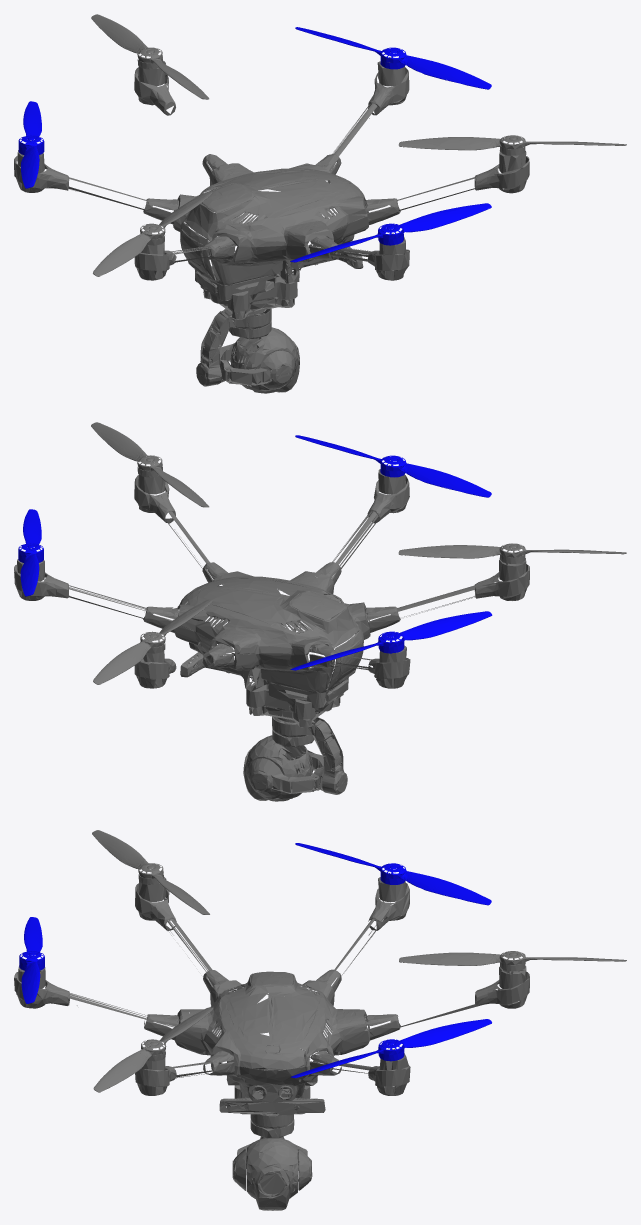
File: typhoon_h480.glb
3 renders of one model, top to bottom at view 1: azimuth 30°, elevation 25°; view 2: azimuth 150°, elevation 25°; view 3: azimuth 270°, elevation 25°, orthographic.
Visible parts, largest first — view 1: base_link_v0, cgo3_mount_link_v0, cgo3_vertical_arm_link_v0, cgo3_camera_link_v0, rotor_0_v0, rotor_2_v0, cgo3_horizontal_arm_link_v0, rotor_4_v0, rotor_1_v0, rotor_3_v0, rotor_5_v0; view 2: base_link_v0, cgo3_mount_link_v0, cgo3_vertical_arm_link_v0, cgo3_camera_link_v0, rotor_5_v0, cgo3_horizontal_arm_link_v0, rotor_0_v0, rotor_3_v0, rotor_4_v0, rotor_1_v0, rotor_2_v0; view 3: base_link_v0, cgo3_camera_link_v0, rotor_2_v0, rotor_5_v0, rotor_1_v0, rotor_3_v0, rotor_4_v0, rotor_0_v0, cgo3_horizontal_arm_link_v0, cgo3_mount_link_v0, cgo3_vertical_arm_link_v0.
Part boxes in pixels (left/top/right/bottom): base_link_v0: left=14, top=57, right=529, bottom=304; cgo3_mount_link_v0: left=200, top=269, right=297, bottom=339; cgo3_vertical_arm_link_v0: left=196, top=308, right=271, bottom=386; cgo3_camera_link_v0: left=230, top=327, right=299, bottom=393; rotor_0_v0: left=290, top=203, right=491, bottom=262; rotor_2_v0: left=295, top=27, right=491, bottom=89; cgo3_horizontal_arm_link_v0: left=220, top=343, right=295, bottom=389; rotor_4_v0: left=398, top=135, right=626, bottom=155; rotor_1_v0: left=91, top=14, right=209, bottom=99; rotor_3_v0: left=93, top=191, right=212, bottom=276; rotor_5_v0: left=18, top=101, right=44, bottom=188; base_link_v0: left=14, top=465, right=529, bottom=712; cgo3_mount_link_v0: left=246, top=677, right=343, bottom=747; cgo3_vertical_arm_link_v0: left=272, top=716, right=347, bottom=794; cgo3_camera_link_v0: left=243, top=735, right=313, bottom=801; rotor_5_v0: left=290, top=611, right=492, bottom=670; cgo3_horizontal_arm_link_v0: left=248, top=750, right=323, bottom=797; rotor_0_v0: left=295, top=435, right=491, bottom=497; rotor_3_v0: left=398, top=543, right=626, bottom=563; rotor_4_v0: left=91, top=422, right=209, bottom=507; rotor_1_v0: left=93, top=599, right=212, bottom=684; rotor_2_v0: left=18, top=509, right=43, bottom=596; base_link_v0: left=14, top=873, right=529, bottom=1115; cgo3_camera_link_v0: left=246, top=1138, right=298, bottom=1210; rotor_2_v0: left=290, top=1019, right=491, bottom=1078; rotor_5_v0: left=295, top=843, right=491, bottom=905; rotor_1_v0: left=399, top=951, right=626, bottom=971; rotor_3_v0: left=92, top=830, right=209, bottom=914; rotor_4_v0: left=93, top=1007, right=213, bottom=1092; rotor_0_v0: left=19, top=917, right=44, bottom=1003; cgo3_horizontal_arm_link_v0: left=232, top=1144, right=312, bottom=1190; cgo3_mount_link_v0: left=234, top=1068, right=310, bottom=1138; cgo3_vertical_arm_link_v0: left=250, top=1114, right=293, bottom=1139.
Bounding box in the file's own units: 0.6217 × 0.2834 × 0.6185.
